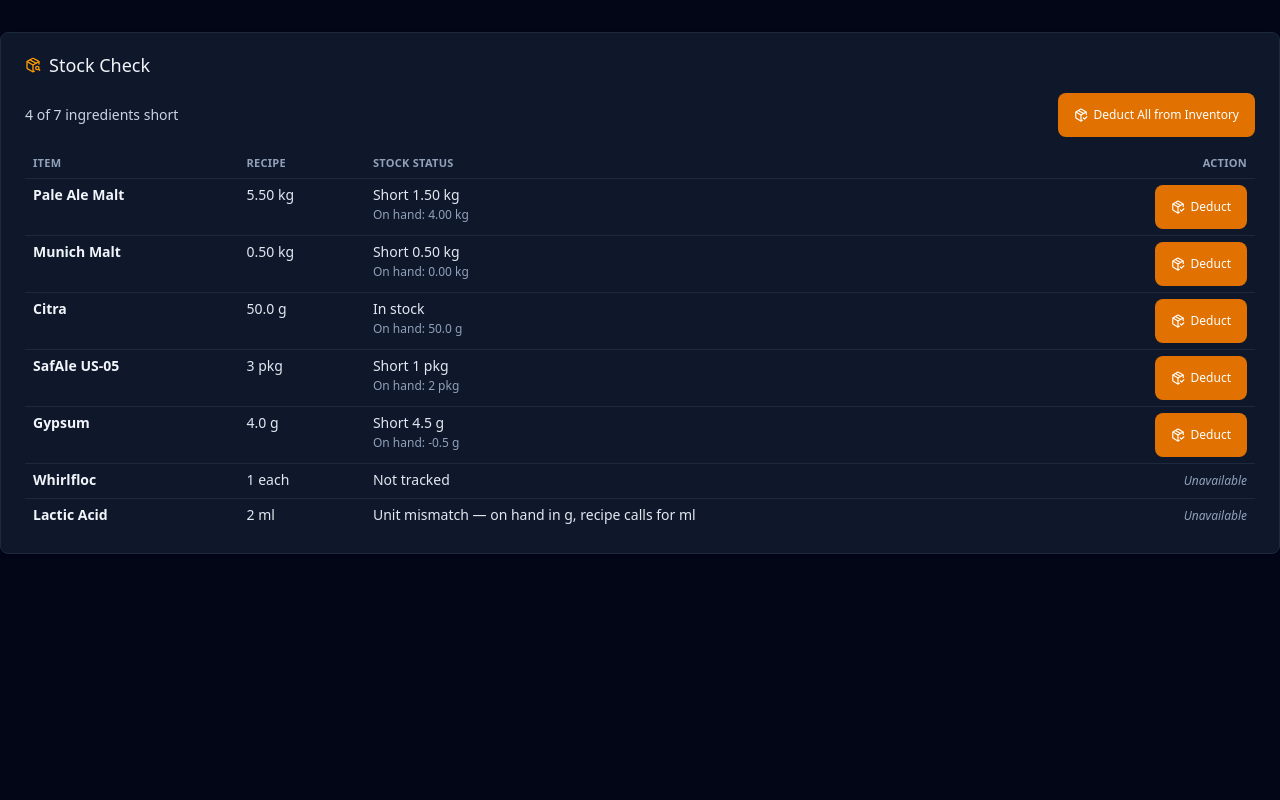
Test: AC-13: Deduct All from Inventory processes remaining checkable un-deducted items sequentially › stops at the first failure and surfaces which item failed; already-deducted items stay deducted
This screenshot has width=1280, height=800.
Expected: the text "4 of 7 ingredients short" is shown, [25, 105, 178, 125]
Step 1. Click the button with test id "stock-check-deduct-all-btn" → (1156, 115), box [1058, 93, 1255, 137]
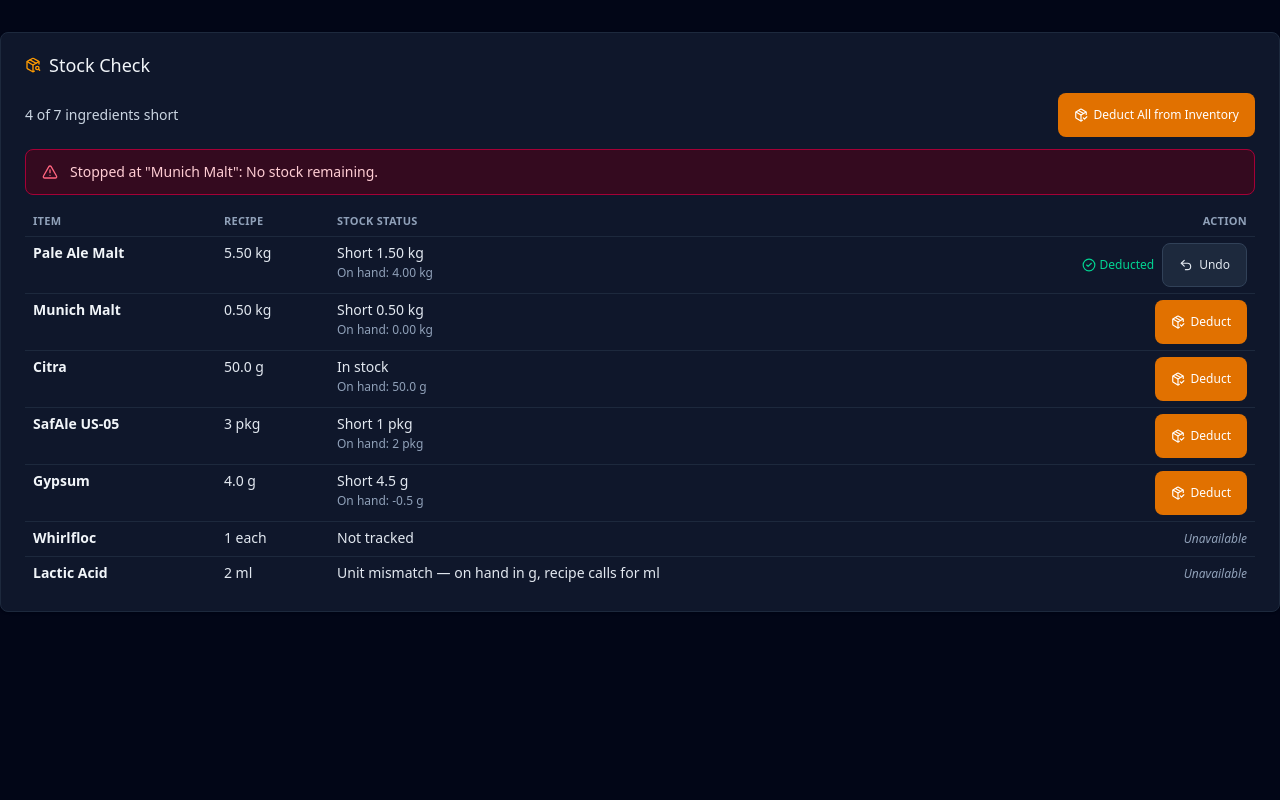
Expected: the element with test id "stock-check-bulk-error" is shown, [25, 149, 1255, 195]
Expected: the element with test id "stock-check-bulk-error" shows "Munich Malt", [70, 162, 378, 181]
Expected: the element with test id "stock-check-bulk-error" shows "No stock remaining.", [70, 162, 378, 181]
